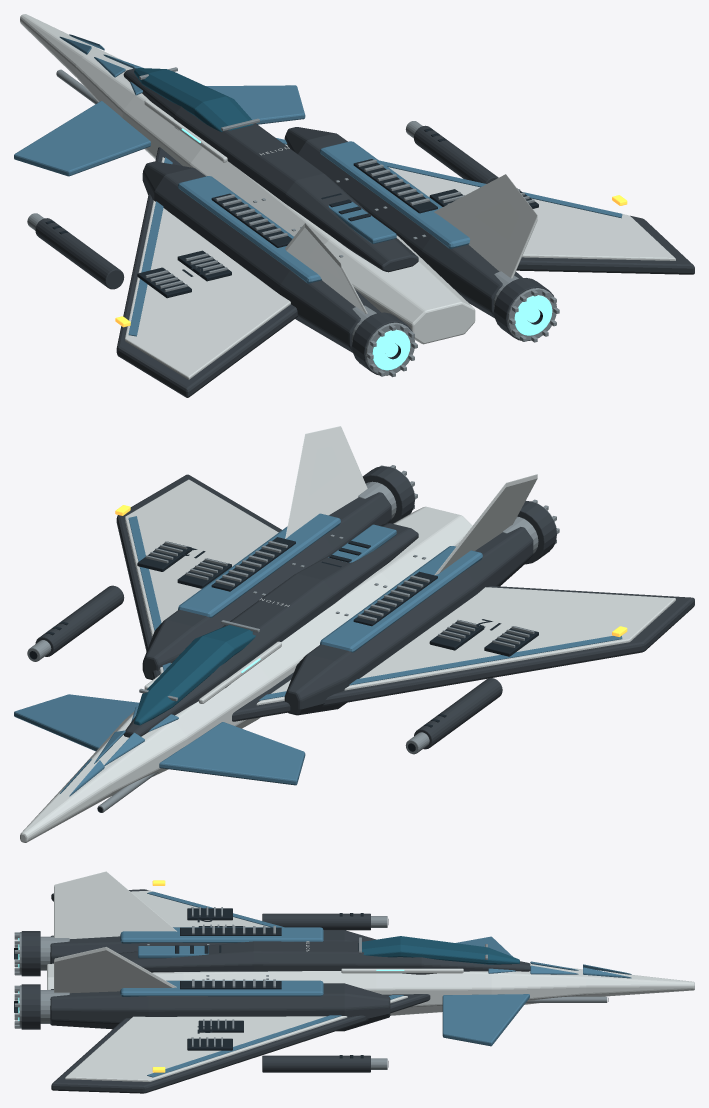
Rendered from ship_peregrine.glb.
3 renders of one model, top to bottom at view 1: azimuth 30°, elevation 25°; view 2: azimuth 150°, elevation 25°; view 3: azimuth 270°, elevation 25°, orthographic. The views are drawn at different scales.
Parts seen in each view (by area): view 1: peregrine_ceramic, peregrine_titanium, peregrine_hull, peregrine_machinery, peregrine_graphite, peregrine_canopy, peregrine_engine; view 2: peregrine_ceramic, peregrine_titanium, peregrine_hull, peregrine_machinery, peregrine_graphite, peregrine_canopy; view 3: peregrine_ceramic, peregrine_titanium, peregrine_hull, peregrine_graphite, peregrine_machinery, peregrine_canopy.
Boxes of the visible parts, x1=… form: peregrine_ceramic: x1=20, y1=14, x2=675, y2=379; peregrine_titanium: x1=35, y1=68, x2=694, y2=397; peregrine_hull: x1=14, y1=34, x2=622, y2=336; peregrine_machinery: x1=27, y1=67, x2=559, y2=377; peregrine_graphite: x1=45, y1=71, x2=542, y2=359; peregrine_canopy: x1=134, y1=68, x2=253, y2=131; peregrine_engine: x1=181, y1=128, x2=552, y2=370; peregrine_ceramic: x1=20, y1=426, x2=675, y2=842; peregrine_titanium: x1=35, y1=466, x2=694, y2=749; peregrine_hull: x1=14, y1=513, x2=622, y2=796; peregrine_machinery: x1=27, y1=465, x2=559, y2=812; peregrine_graphite: x1=29, y1=537, x2=538, y2=812; peregrine_canopy: x1=134, y1=625, x2=255, y2=725; peregrine_ceramic: x1=47, y1=871, x2=694, y2=1081; peregrine_titanium: x1=21, y1=889, x2=530, y2=1093; peregrine_hull: x1=120, y1=891, x2=631, y2=1077; peregrine_graphite: x1=14, y1=908, x2=608, y2=1067; peregrine_machinery: x1=14, y1=907, x2=607, y2=1069; peregrine_canopy: x1=358, y1=936, x2=519, y2=964.
Bounding box in the file's own units: 13.39 × 3.09 × 19.44.
